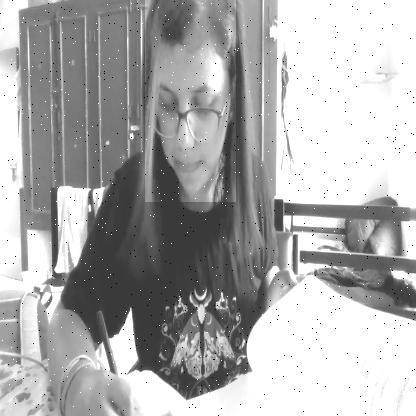Distracted: (145, 0, 236, 202)
